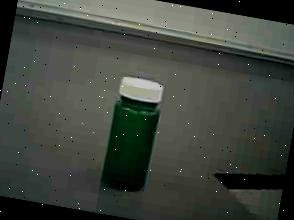Bottle C: (86, 65, 179, 208)
